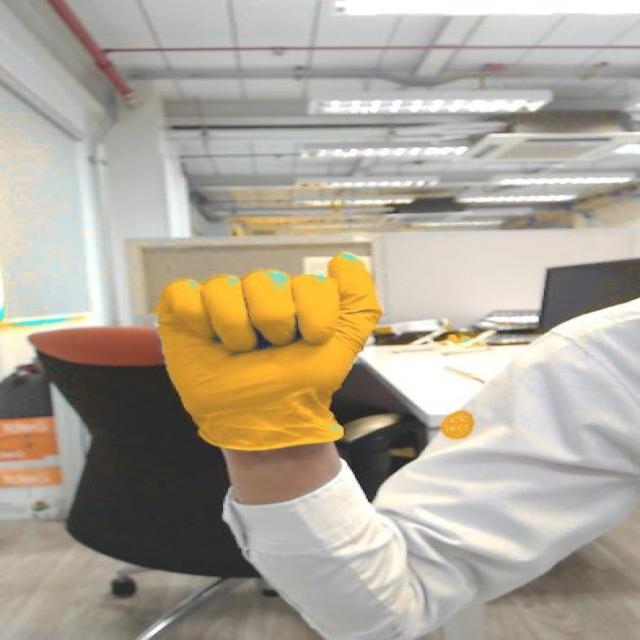Glove: (102, 239, 421, 449)
